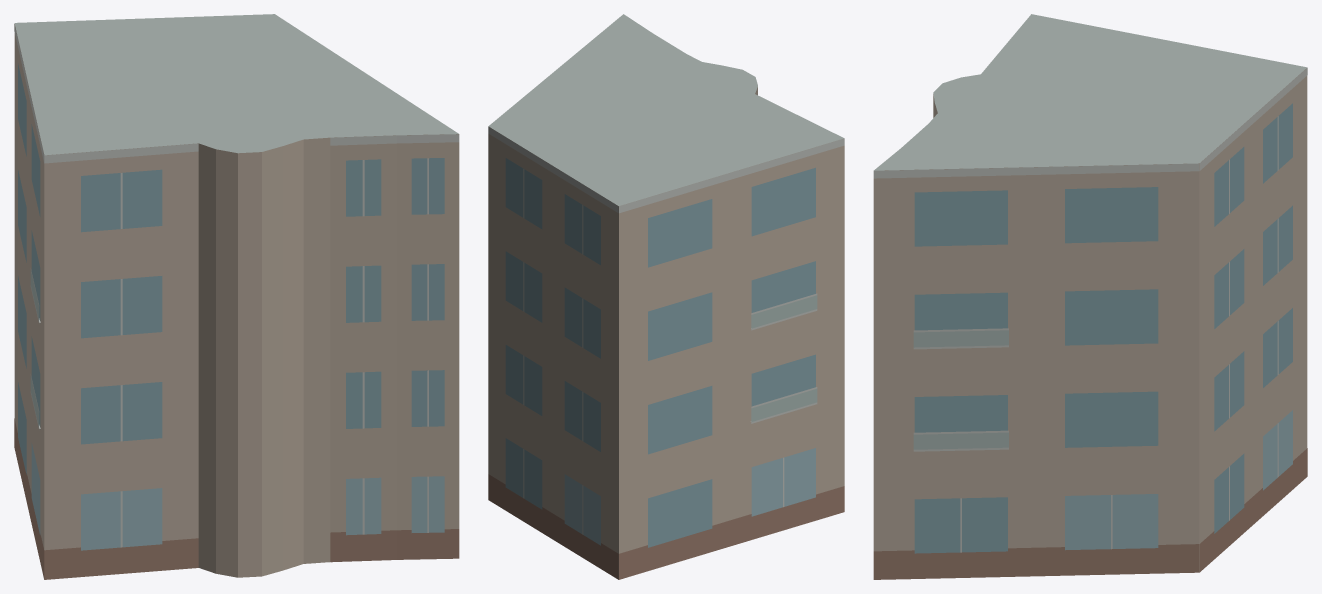
Rendered from survey-upis-32727896.glb.
3 views of the same model, side by side, from view 1: azimuth 30°, elevation 25°; view 2: azimuth 150°, elevation 25°; view 3: azimuth 270°, elevation 25° (orthographic). The views are drawn at different scales.
Visible parts, largest first — view 1: survey-upis-32727896.tmp; view 2: survey-upis-32727896.tmp; view 3: survey-upis-32727896.tmp.
Part boxes in pixels (x1,y1,x2,y2): survey-upis-32727896.tmp: (14, 14, 459, 579); survey-upis-32727896.tmp: (488, 14, 844, 579); survey-upis-32727896.tmp: (873, 14, 1307, 579).
Bounding box in the file's own units: 10.44 × 12.7 × 12.22.
